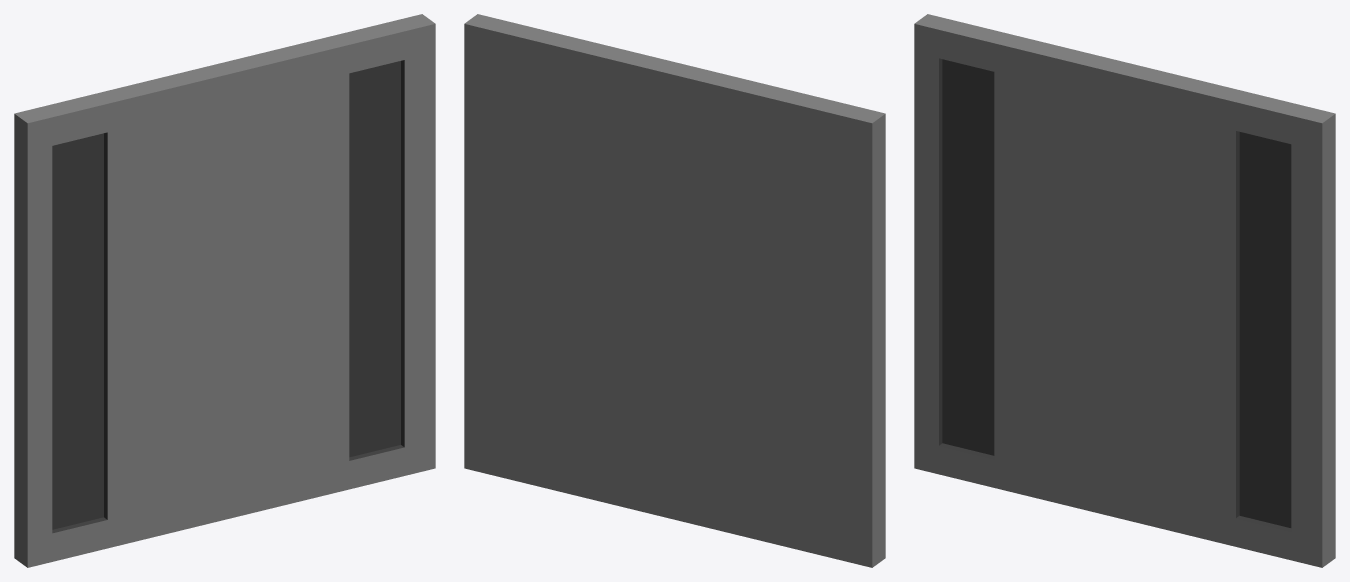
The model's file is Plate.fbx.
3 renders of one model, left to right at view 1: azimuth 30°, elevation 25°; view 2: azimuth 150°, elevation 25°; view 3: azimuth 330°, elevation 25°, orthographic.
Parts seen in each view (by area): view 1: Plate; view 2: Plate; view 3: Plate.
Part boxes in pixels (left/top/right/bottom): Plate: left=14, top=14, right=435, bottom=567; Plate: left=464, top=14, right=885, bottom=567; Plate: left=914, top=14, right=1335, bottom=567.
Size of the model in its own units: 58.92 by 61.35 by 3.35.
Materials: 1 (1 with a texture image).
